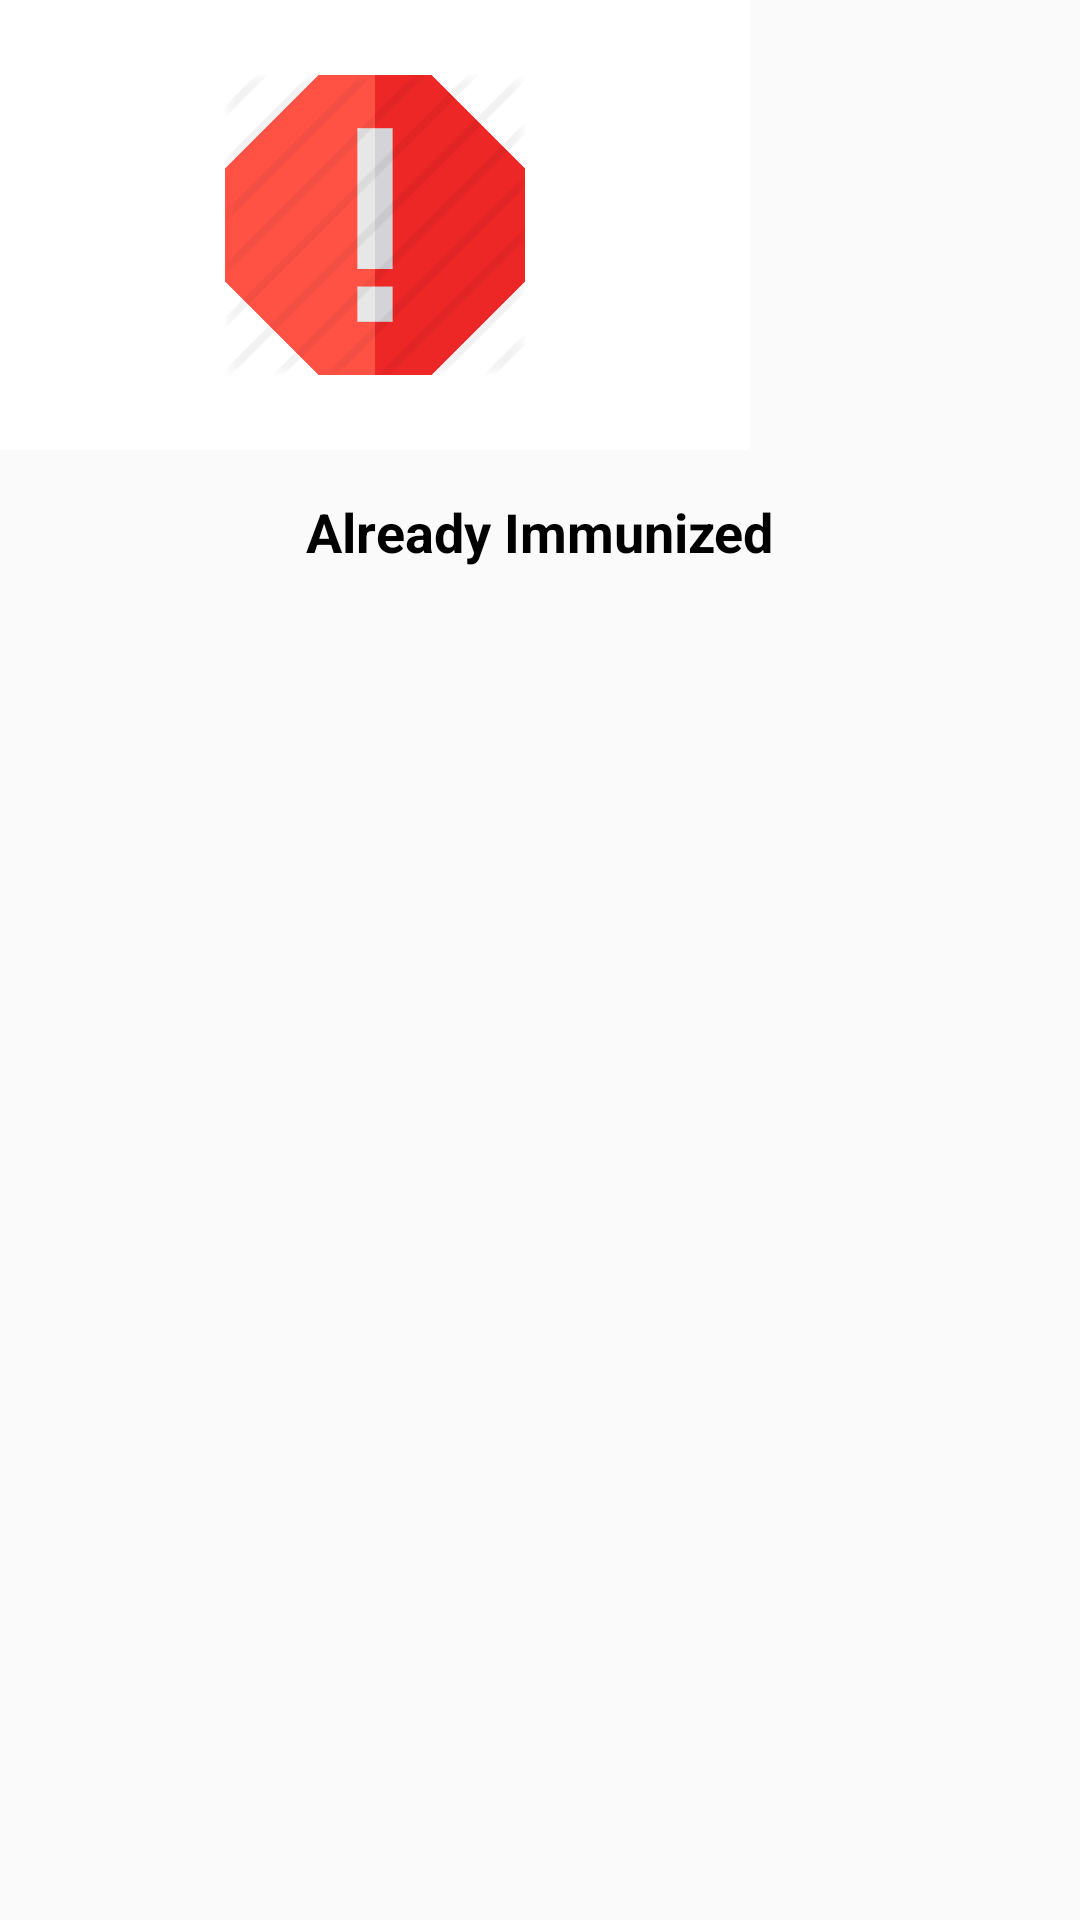

Icon click points for this 1080×1920 phone screenshot, format (x,y):
error: (375,225)
